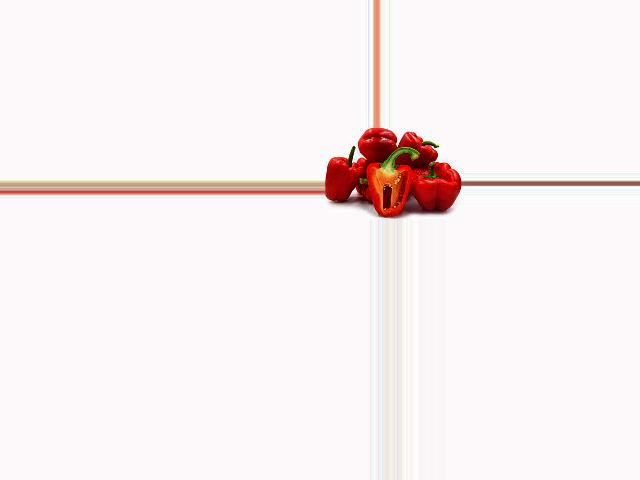bell_pepper: (396, 131, 439, 165)
